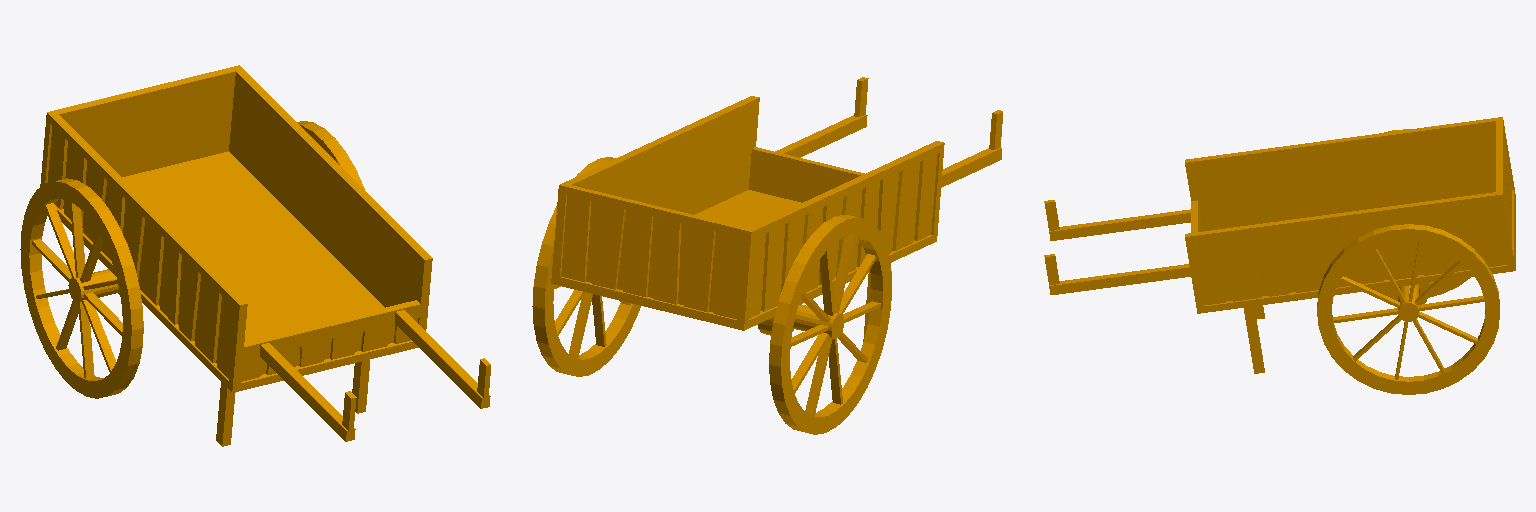
The robot description file, URDF, robot "mesh_object":
<?xml version="1.0" ?>
            <robot name="mesh_object">
            <link name="base">
                <visual>
                    <geometry>
                        <mesh filename="1.obj" scale="0.1 0.1 0.1"/>
                    </geometry>
                </visual>
                <collision>
                    <geometry>
                        <mesh filename="1.obj" scale="0.1 0.1 0.1"/>
                    </geometry>
                </collision>
                <inertial>
                    <origin xyz="0 0 0.022275521000000003" rpy="0 0 0"/>
                    <mass value="0.5"/>
                    <inertia ixx="0.01" iyy="0.01" izz="0.01" ixy="0" ixz="0" iyz="0"/>
                </inertial>
            </link>
            </robot>
        

--- Facts derived from the render (not from the file) ---
Views: 3 orthographic renders of the robot side by side, from view 1: azimuth 30°, elevation 25°; view 2: azimuth 150°, elevation 25°; view 3: azimuth 270°, elevation 25°.
Model mesh_object with 1 links and 0 joints (none), rooted at base, posed all joints at 0.
Visible links, largest first — view 1: base; view 2: base; view 3: base.
Link boxes in pixels (x1,y1,x2,y2): base: (20, 65, 490, 446); base: (532, 77, 1002, 434); base: (1044, 117, 1515, 394).
Size in the robot's own frame: 0.0508 by 0.1003 by 0.0446 metres.
Meshes: 1 distinct files referenced, 1 mesh visuals loaded (1 OBJ).
